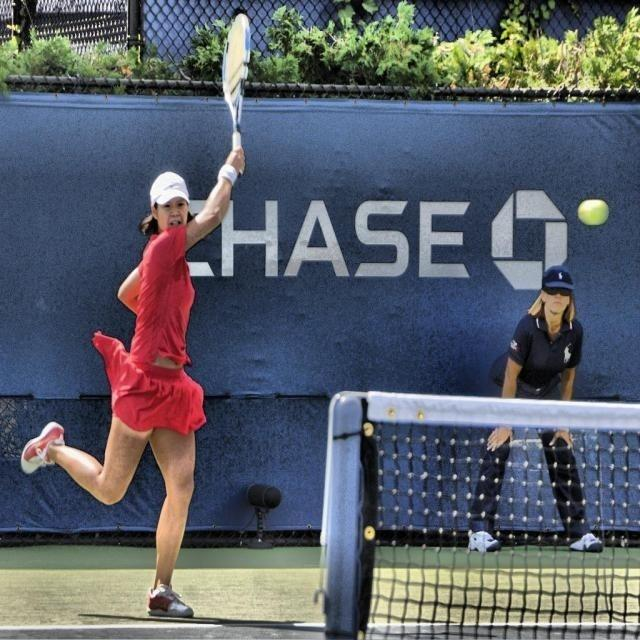ball: (577, 198, 609, 226)
